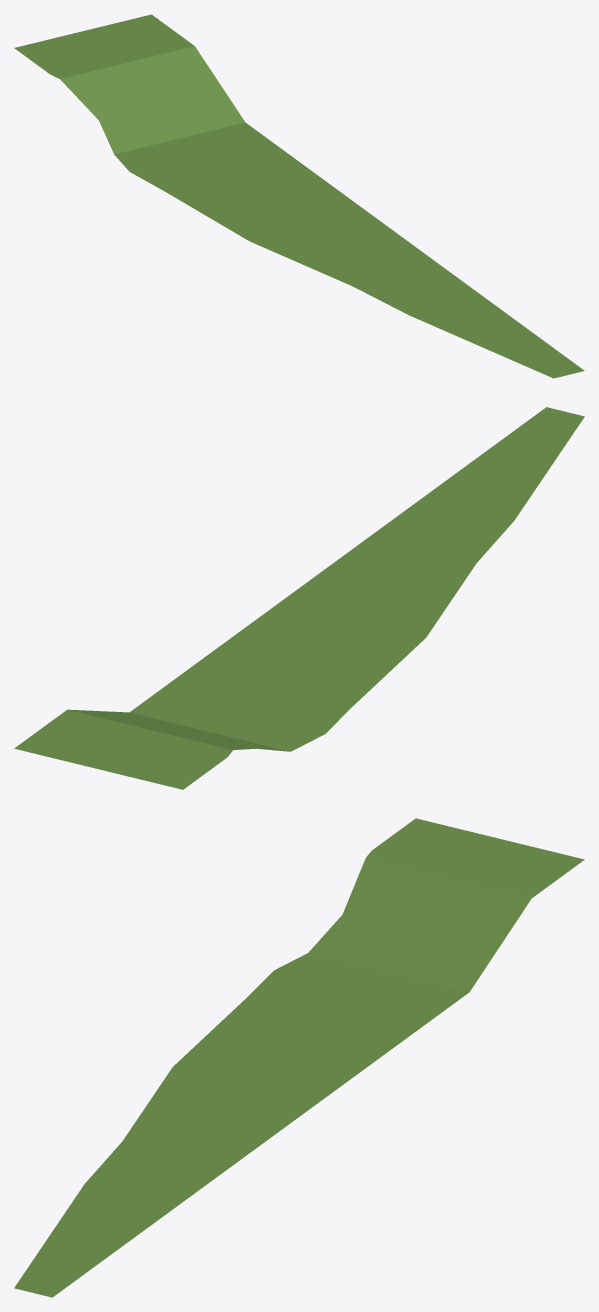
Rendered from eastground.glb.
3 renders of one model, top to bottom at view 1: azimuth 30°, elevation 25°; view 2: azimuth 150°, elevation 25°; view 3: azimuth 330°, elevation 25°, orthographic. The views are drawn at different scales.
Visible parts, largest first — view 1: eastground; view 2: eastground; view 3: eastground.
Boxes of the visible parts, left/top/right/bottom form: eastground: left=14, top=14, right=584, bottom=378; eastground: left=14, top=407, right=584, bottom=789; eastground: left=14, top=818, right=584, bottom=1297.
Bounding box in the file's own units: 22 × 6 × 120.
